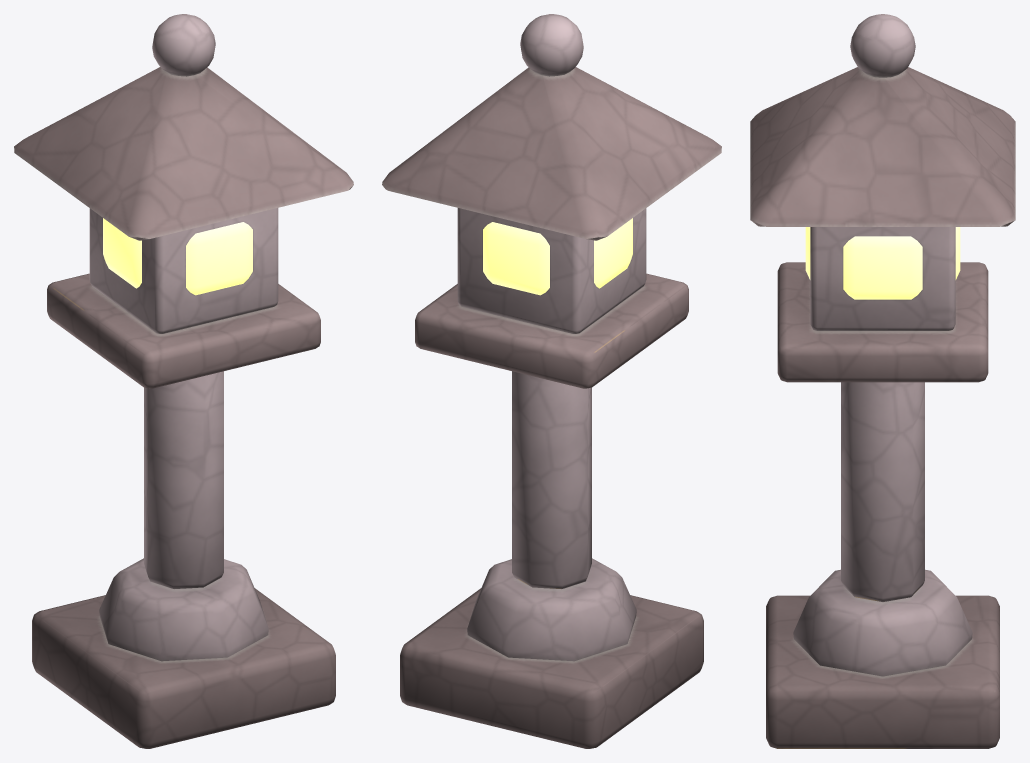
File: cb_stone_lantern.glb
The picture shows the model from 3 angles, left to right: view 1: azimuth 30°, elevation 25°; view 2: azimuth 150°, elevation 25°; view 3: azimuth 270°, elevation 25°; orthographic projection. The views are drawn at different scales.
Visible parts, largest first — view 1: cb_stone_lantern; view 2: cb_stone_lantern; view 3: cb_stone_lantern.
Part boxes in pixels (box(x1,y1,x2,y2)): cb_stone_lantern: box(14, 14, 353, 748); cb_stone_lantern: box(382, 14, 721, 748); cb_stone_lantern: box(750, 14, 1015, 748).
Bounding box in the file's own units: 1.13 × 3.24 × 1.13.
3 materials, 3 textured.
